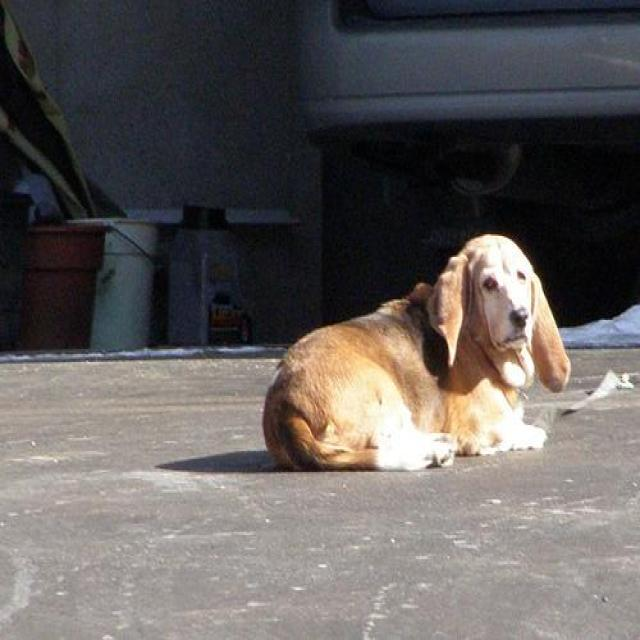basset: (260, 228, 572, 472)
